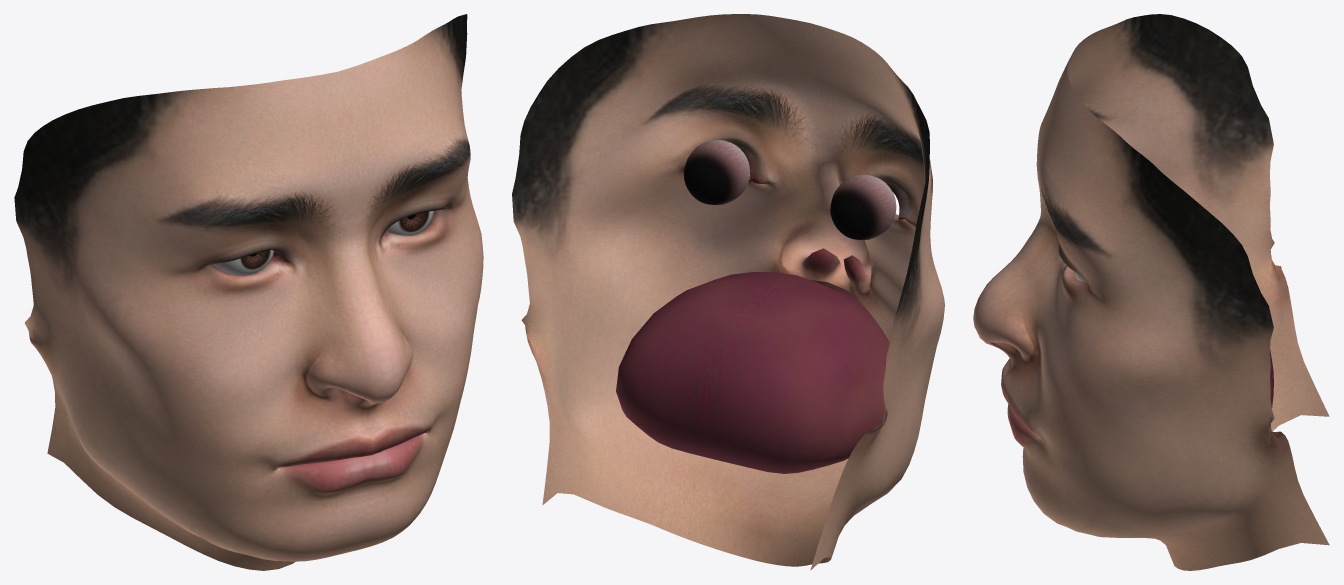
3 views of the same model, side by side, from view 1: azimuth 30°, elevation 25°; view 2: azimuth 150°, elevation 25°; view 3: azimuth 270°, elevation 25° (orthographic). The views are drawn at different scales.
Parts seen in each view (by area): view 1: 头001; view 2: 头001; view 3: 头001.
Boxes of the visible parts, bbox=[...] form: 头001: bbox=[14, 14, 483, 570]; 头001: bbox=[512, 14, 944, 570]; 头001: bbox=[973, 14, 1329, 570].
Bounding box in the file's own units: 168 × 202 × 133.
3 materials, 3 textured.
